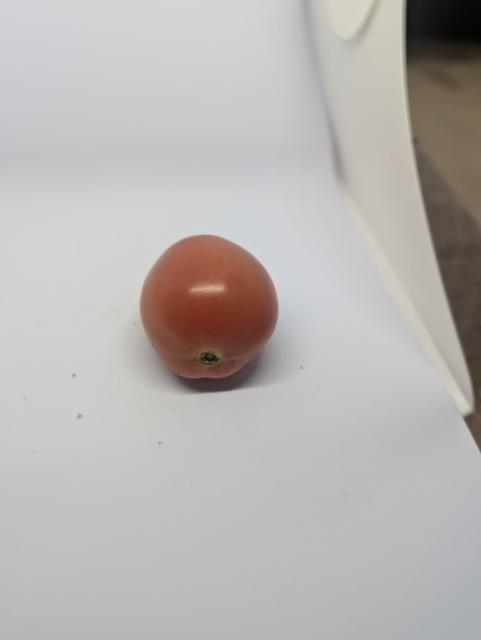red: (137, 233, 281, 386)
